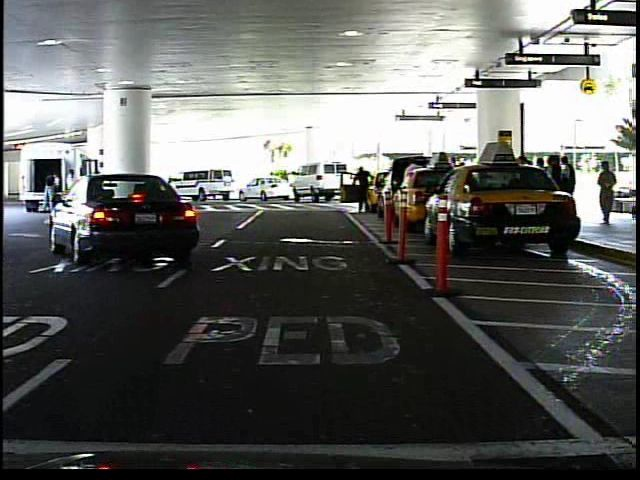person: (596, 158, 621, 226), (351, 163, 375, 219), (279, 168, 290, 197), (267, 171, 277, 178)
